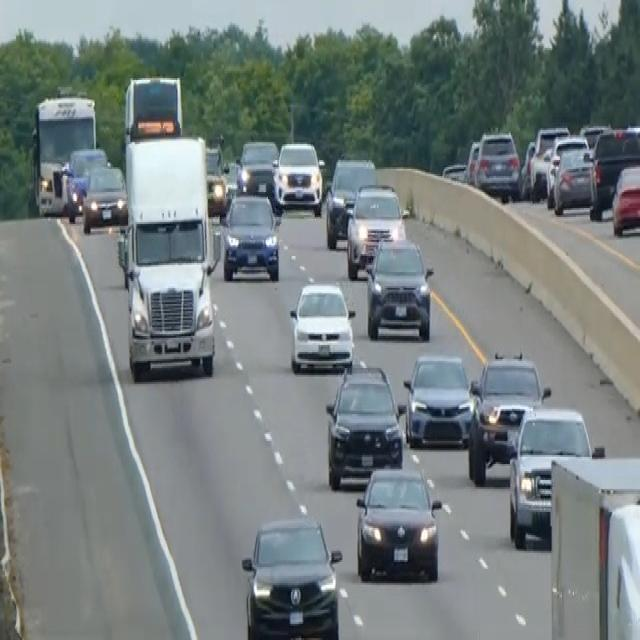bus: (123, 73, 183, 142)
car: (507, 403, 602, 548), (240, 514, 342, 638), (467, 348, 550, 484), (354, 464, 442, 583), (324, 361, 403, 489), (364, 235, 434, 341), (402, 350, 474, 450), (288, 279, 355, 373), (345, 181, 406, 279), (220, 190, 280, 281), (324, 155, 377, 247), (589, 126, 639, 219), (273, 139, 324, 215), (62, 144, 108, 222), (550, 137, 594, 215), (81, 160, 127, 233), (474, 128, 520, 201), (527, 125, 569, 199), (236, 137, 278, 194), (203, 133, 229, 215), (611, 160, 639, 236), (518, 137, 536, 195), (464, 137, 480, 185), (441, 160, 467, 183)
lorry: (117, 134, 220, 380)
